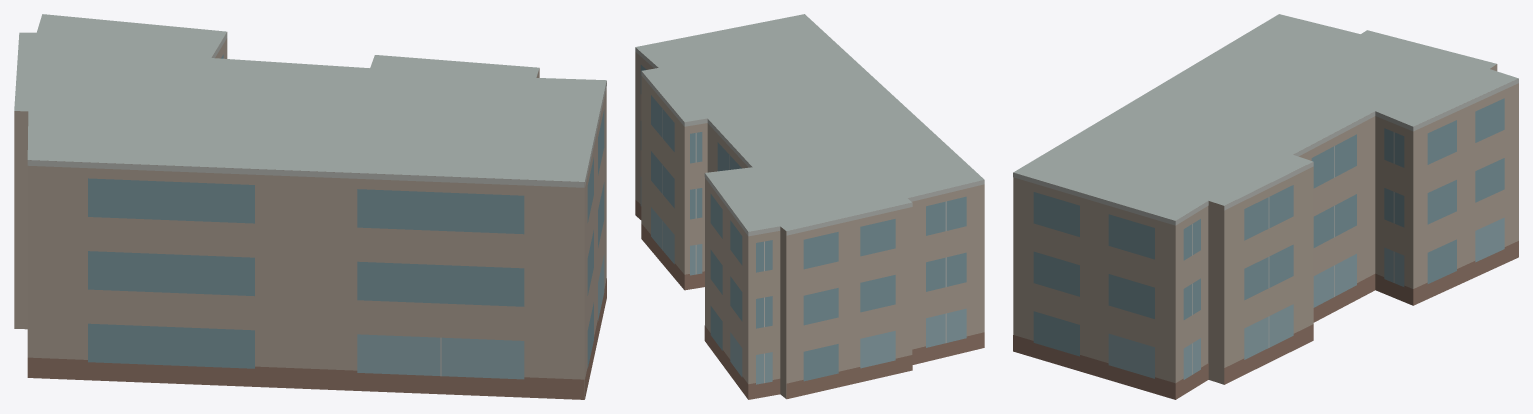
Rendered from survey-upis-32962474.glb.
The picture shows the model from 3 angles, left to right: view 1: azimuth 30°, elevation 25°; view 2: azimuth 150°, elevation 25°; view 3: azimuth 270°, elevation 25°; orthographic projection. The views are drawn at different scales.
Parts seen in each view (by area): view 1: survey-upis-32962474.tmp; view 2: survey-upis-32962474.tmp; view 3: survey-upis-32962474.tmp.
Part boxes in pixels (bbox=[...]): survey-upis-32962474.tmp: bbox=[14, 14, 606, 399]; survey-upis-32962474.tmp: bbox=[635, 14, 984, 399]; survey-upis-32962474.tmp: bbox=[1013, 14, 1518, 399].
Size of the model in its own units: 22.69 by 9.15 by 23.44.
